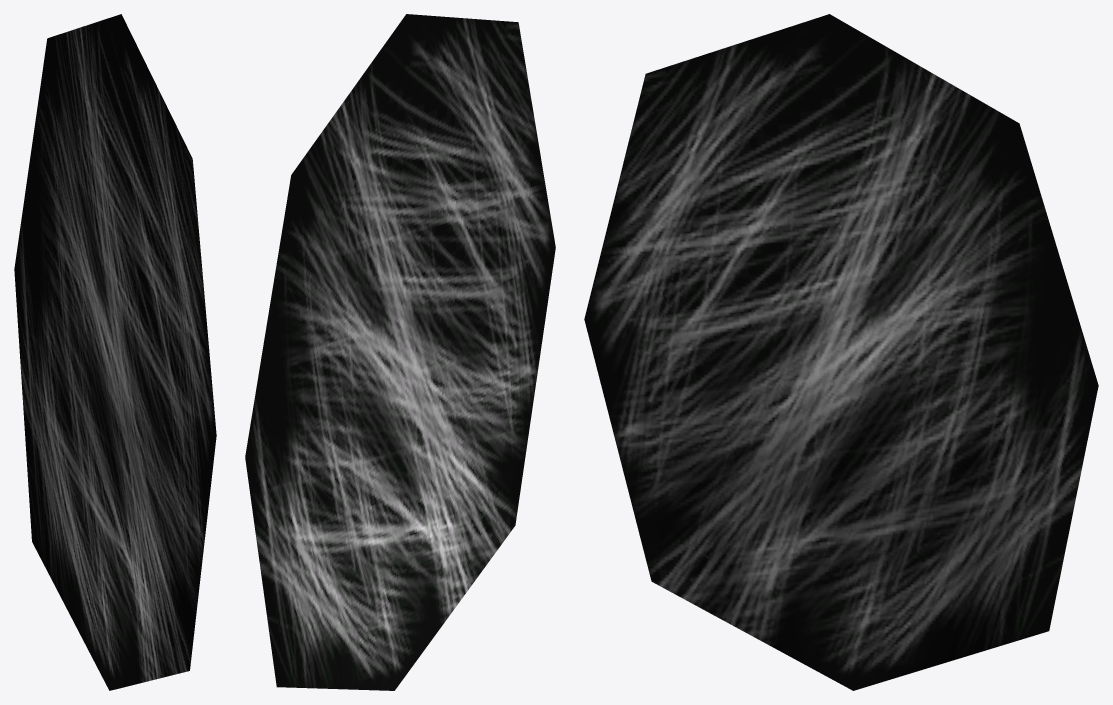
File: MIRKWOOD_SPIDERWEB_COVERS07.fbx
3 views of the same model, side by side, from view 1: azimuth 30°, elevation 25°; view 2: azimuth 150°, elevation 25°; view 3: azimuth 270°, elevation 25° (orthographic). The views are drawn at different scales.
Parts seen in each view (by area): view 1: MIRKWOOD_SPIDERWEB_COVERS07; view 2: MIRKWOOD_SPIDERWEB_COVERS07; view 3: MIRKWOOD_SPIDERWEB_COVERS07.
Boxes of the visible parts, left/top/right/bottom form: MIRKWOOD_SPIDERWEB_COVERS07: left=14, top=14, right=216, bottom=690; MIRKWOOD_SPIDERWEB_COVERS07: left=245, top=14, right=555, bottom=690; MIRKWOOD_SPIDERWEB_COVERS07: left=584, top=14, right=1098, bottom=690.
Size of the model in its own units: 6312 by 71009 by 48898.
Materials: 1 (1 with a texture image).
